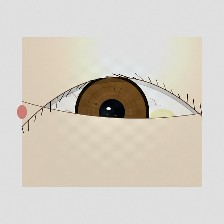pinguecula_lesion: (138, 96, 187, 135)
